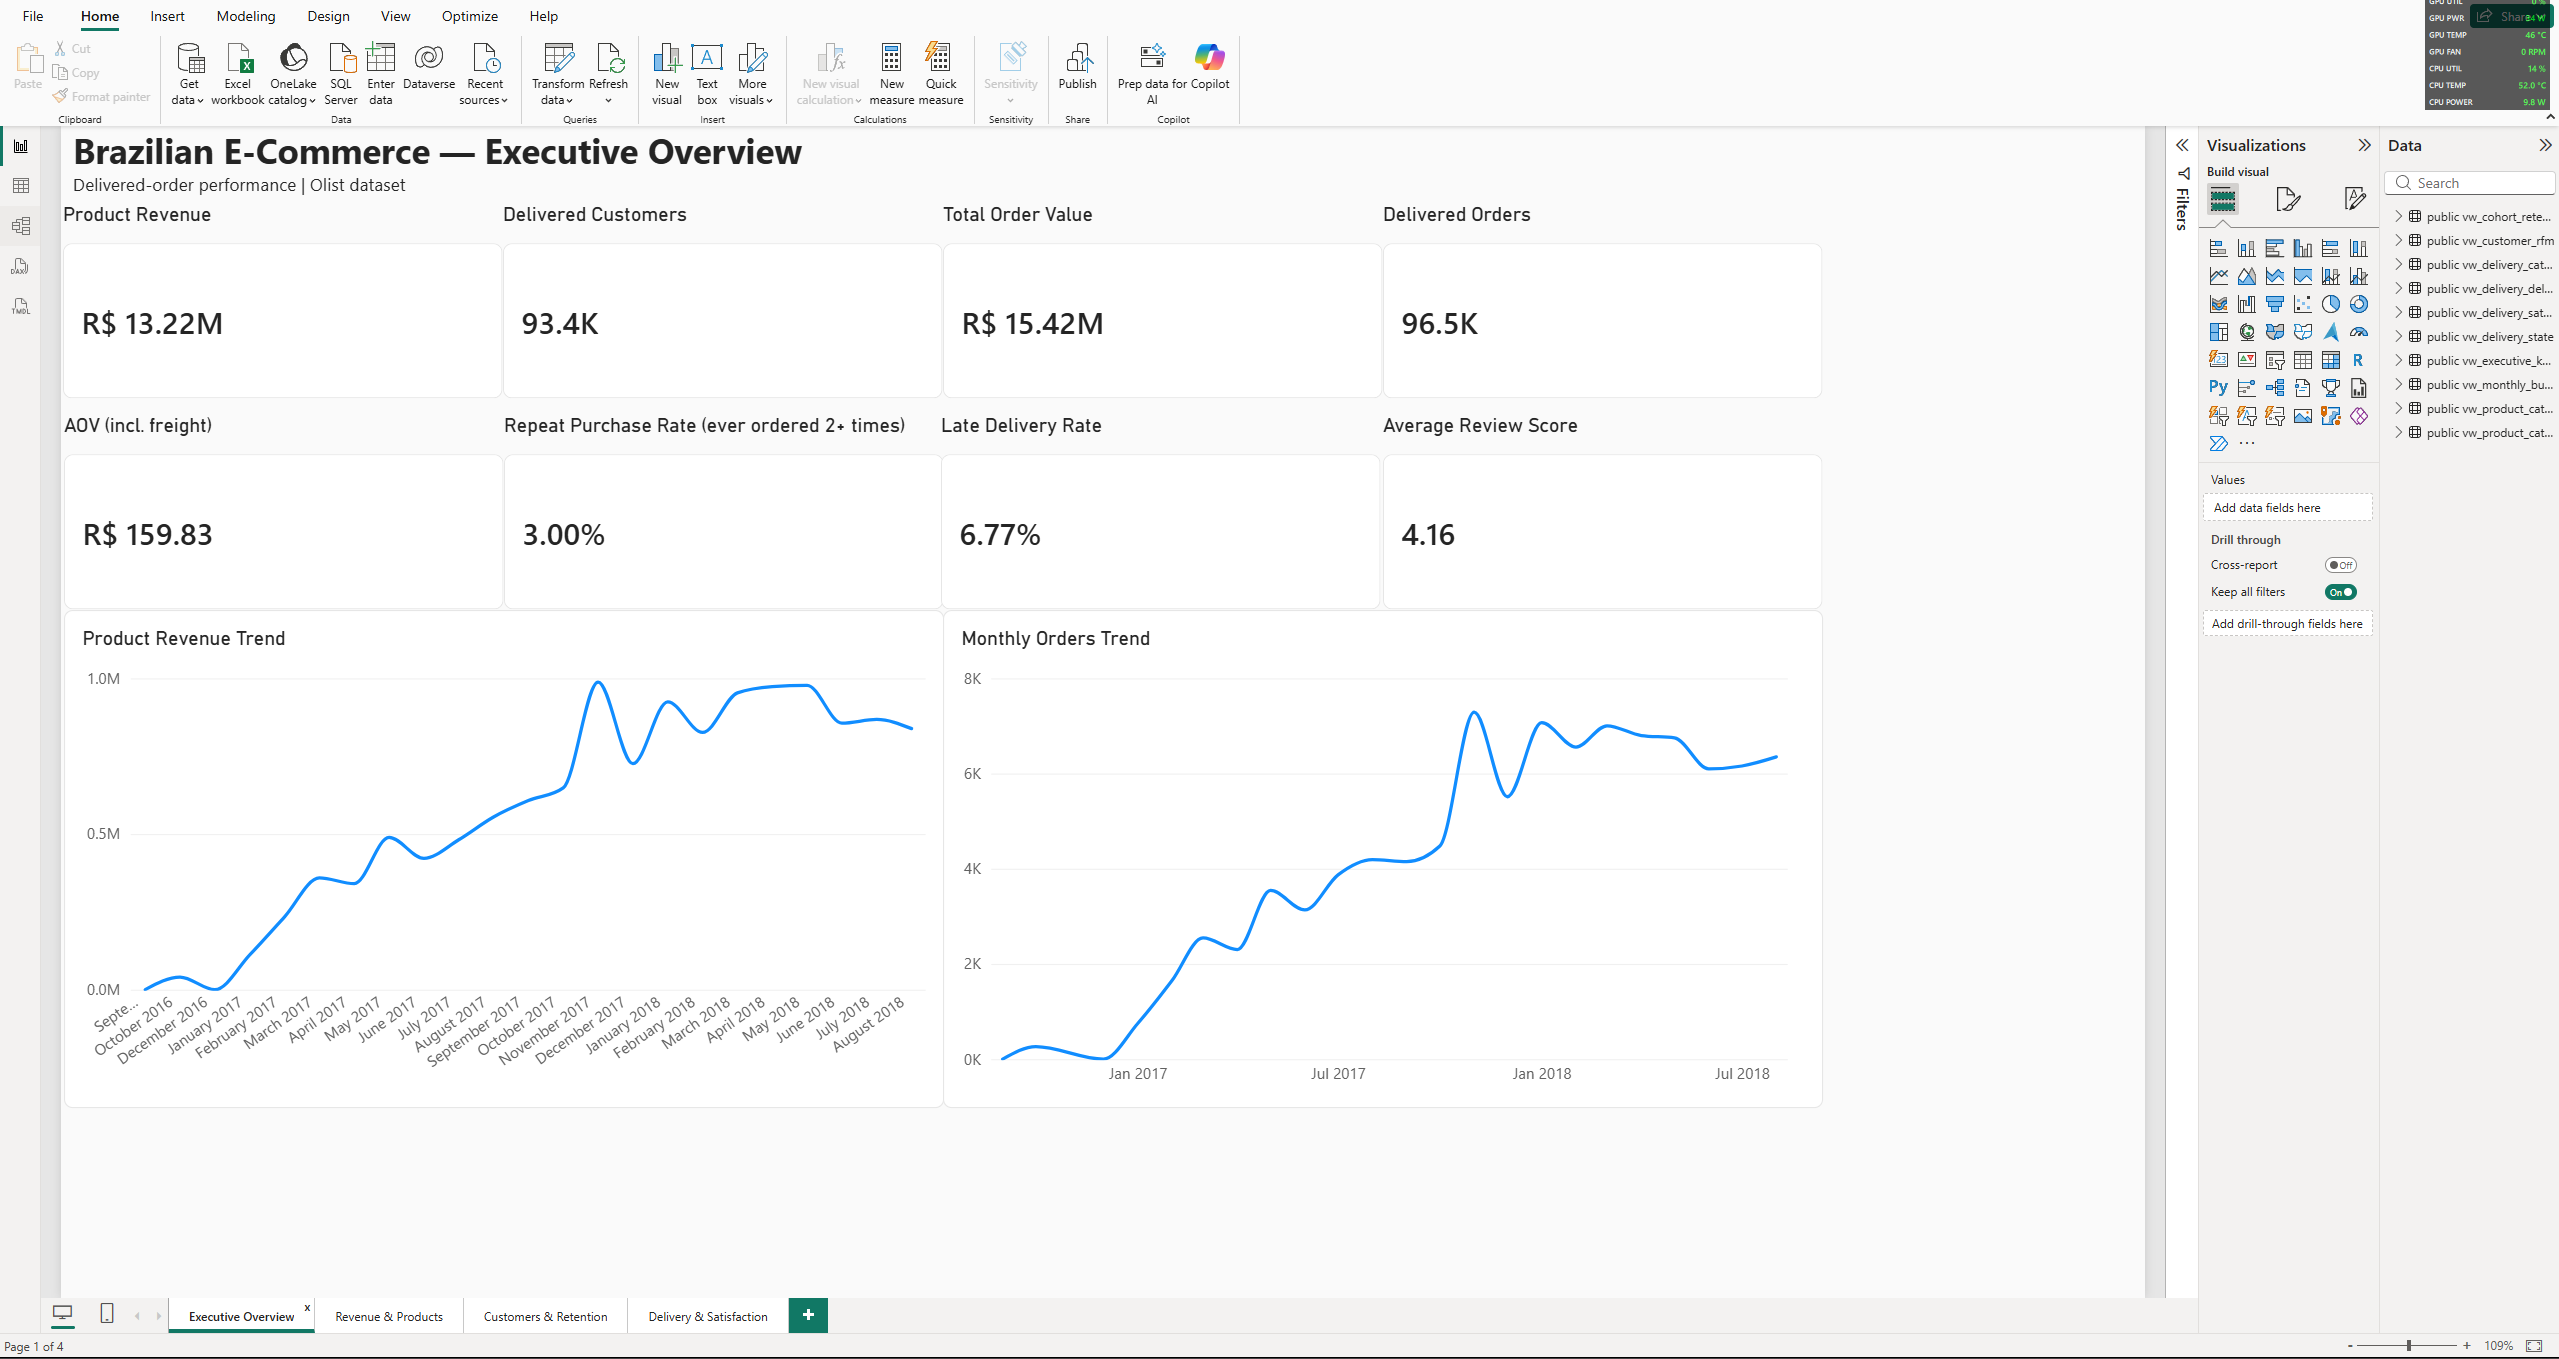

Layout of this report page (visuals, bound fields, positions):
{"tool":"powerbi","page":{"name":"Executive Overview","canvas":[1920,1080],"ordinal":0},"visuals":[{"type":"textbox","box":[10.7,0,741.4,96],"z":0},{"type":"cardVisual","title":"Product Revenue","fields":{"Data":["public vw_executive_kpis.Product Revenue"]},"box":[2.2,70.6,405,180],"z":1000},{"type":"cardVisual","title":"Total Order Value","fields":{"Data":["public vw_executive_kpis.Total Order Value"]},"box":[813.2,70.8,405,180],"z":2000},{"type":"cardVisual","title":"Delivered Orders","fields":{"Data":["public vw_executive_kpis.Delivered Orders"]},"box":[1218.3,70.8,405,180],"z":3000},{"type":"cardVisual","title":"Delivered Customers","fields":{"Data":["public vw_executive_kpis.Delivered Customers"]},"box":[407.6,70.6,405,180],"z":4000},{"type":"cardVisual","title":"AOV (incl. freight)","fields":{"Data":["public vw_executive_kpis.AOV"]},"box":[2.9,265.6,405.1,180.3],"z":5000},{"type":"cardVisual","title":"Repeat Purchase Rate (ever ordered 2+ times)","fields":{"Data":["public vw_executive_kpis.Repeat Purchase Rate %"]},"box":[408,265.6,405.1,180.3],"z":6000},{"type":"cardVisual","title":"Late Delivery Rate","fields":{"Data":["public vw_executive_kpis.Late Delivery Rate %"]},"box":[811.2,265.4,405.1,180.3],"z":7000},{"type":"cardVisual","title":"Average Review Score","fields":{"Data":["public vw_executive_kpis.Average Review Score"]},"box":[1217.9,265.4,405.1,180.3],"z":8000},{"type":"lineChart","title":"Product Revenue Trend","fields":{"Category":["public vw_monthly_business_performance.purchase_month"],"Y":["Sum(public vw_monthly_business_performance.product_revenue)"]},"box":[2.8,446,810.9,458.9],"z":9000},{"type":"lineChart","title":"Monthly Orders Trend","fields":{"Category":["public vw_monthly_business_performance.purchase_month"],"Y":["Sum(public vw_monthly_business_performance.orders)"]},"box":[812.8,446,810.9,458.9],"z":10000}]}

Visuals, with their boxes on the page's 1920x1080 design canvas (x1, y1, x2, y2). These are canvas units, not pixel positions in the 2559x1359 screenshot, which may show the page scaled, cropped or inside an application window:
textbox: [11,0,752,96]
"Product Revenue" cardVisual: [2,71,407,251]
"Total Order Value" cardVisual: [813,71,1218,251]
"Delivered Orders" cardVisual: [1218,71,1623,251]
"Delivered Customers" cardVisual: [408,71,813,251]
"AOV (incl. freight)" cardVisual: [3,266,408,446]
"Repeat Purchase Rate (ever ordered 2+ times)" cardVisual: [408,266,813,446]
"Late Delivery Rate" cardVisual: [811,265,1216,446]
"Average Review Score" cardVisual: [1218,265,1623,446]
"Product Revenue Trend" lineChart: [3,446,814,905]
"Monthly Orders Trend" lineChart: [813,446,1624,905]
